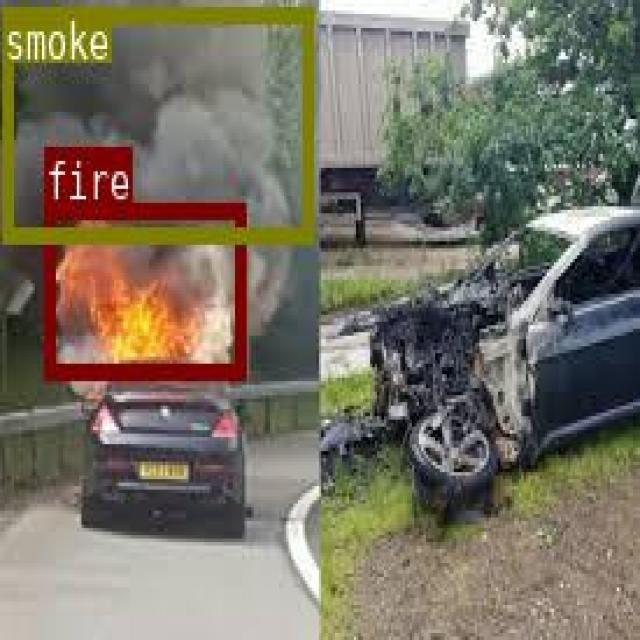fire: (43, 200, 244, 375)
smoke: (2, 4, 310, 238)
